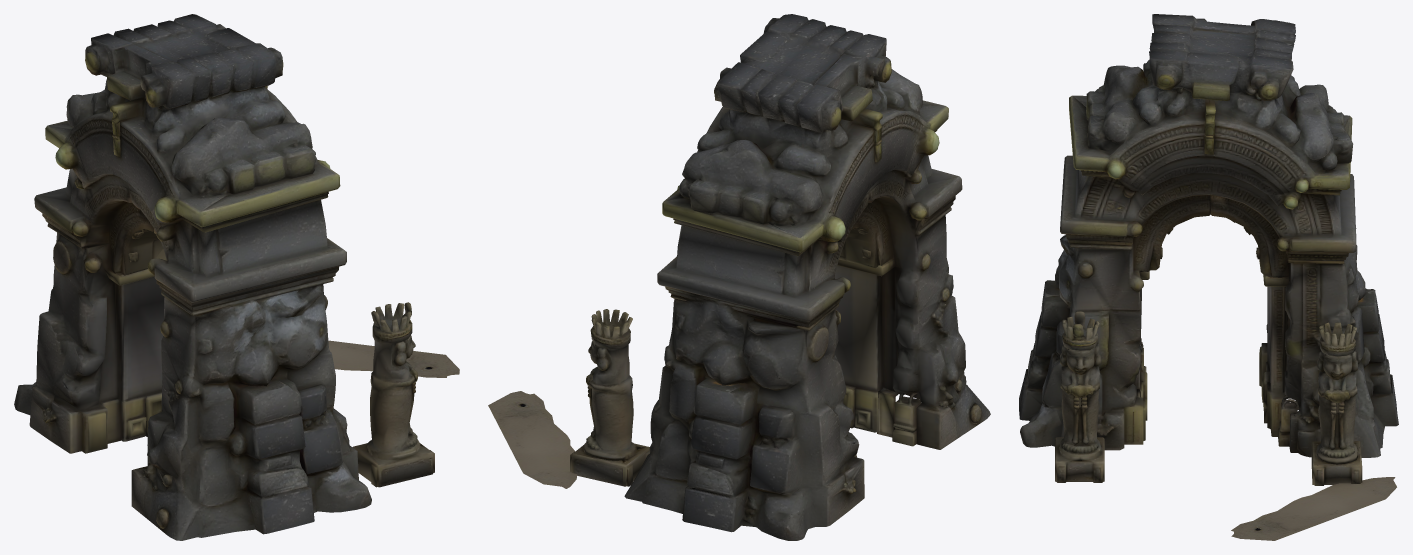
The model's file is ch9_heart_road_gatehouse.glb.
The picture shows the model from 3 angles, left to right: view 1: azimuth 30°, elevation 25°; view 2: azimuth 150°, elevation 25°; view 3: azimuth 270°, elevation 25°; orthographic projection. The views are drawn at different scales.
Visible parts, largest first — view 1: tripo_node_02046ff7-a25d-4909-9d04-008ae5d3b636; view 2: tripo_node_02046ff7-a25d-4909-9d04-008ae5d3b636; view 3: tripo_node_02046ff7-a25d-4909-9d04-008ae5d3b636.
Part boxes in pixels (x1,y1,x2,y2): tripo_node_02046ff7-a25d-4909-9d04-008ae5d3b636: (14,14,459,540); tripo_node_02046ff7-a25d-4909-9d04-008ae5d3b636: (488,14,990,540); tripo_node_02046ff7-a25d-4909-9d04-008ae5d3b636: (1019,14,1398,540).
Bounding box in the file's own units: 0.998 × 0.998 × 0.9082.
Materials: 1 (1 with a texture image).
